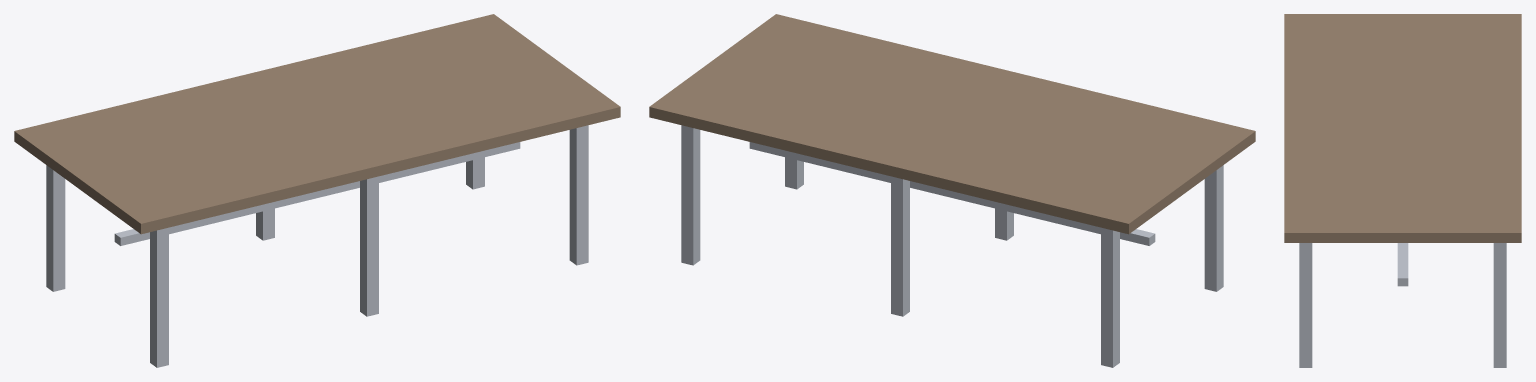
File: welt_besprechungstisch.glb
3 renders of one model, left to right at view 1: azimuth 30°, elevation 25°; view 2: azimuth 150°, elevation 25°; view 3: azimuth 270°, elevation 25°, orthographic. The views are drawn at different scales.
Parts seen in each view (by area): view 1: platte, querstrebe, bein_105_-45, bein_0_-45, bein_-105_-45, bein_-105_45, bein_105_45, bein_0_45; view 2: platte, querstrebe, bein_105_45, bein_0_45, bein_-105_45, bein_-105_-45, bein_105_-45, bein_0_-45; view 3: platte, bein_105_45, bein_105_-45, querstrebe.
Part boxes in pixels (x1,y1,x2,y2): platte: (14,14,620,234); querstrebe: (114,142,520,245); bein_105_-45: (569,125,588,265); bein_0_-45: (360,176,378,316); bein_-105_-45: (150,227,168,367); bein_-105_45: (46,165,65,291); bein_105_45: (466,157,484,189); bein_0_45: (256,208,274,240); platte: (649,14,1255,234); querstrebe: (749,142,1155,245); bein_105_45: (681,125,700,265); bein_0_45: (891,176,909,316); bein_-105_45: (1101,227,1119,367); bein_-105_-45: (1204,165,1223,291); bein_105_-45: (785,157,803,189); bein_0_-45: (995,208,1013,240); platte: (1284,14,1521,242); bein_105_45: (1493,243,1506,367); bein_105_-45: (1299,243,1312,367); querstrebe: (1397,243,1408,286).
Bounding box in the file's own units: 2.4 × 0.745 × 1.1.
